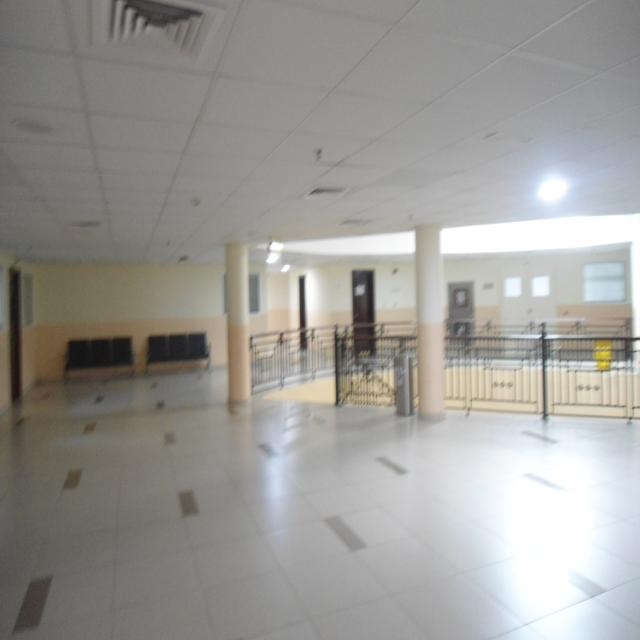bench: (63, 328, 138, 382), (144, 323, 211, 381)
door: (502, 264, 558, 352), (351, 268, 378, 364), (10, 262, 25, 413), (294, 270, 310, 354)
dustbin: (384, 344, 417, 422), (590, 326, 618, 376)
pillar: (419, 227, 444, 413), (228, 238, 252, 405)
railing: (445, 326, 640, 418), (332, 332, 419, 408), (253, 330, 335, 398)
wall: (285, 257, 634, 362), (35, 253, 225, 382), (0, 238, 35, 440)
